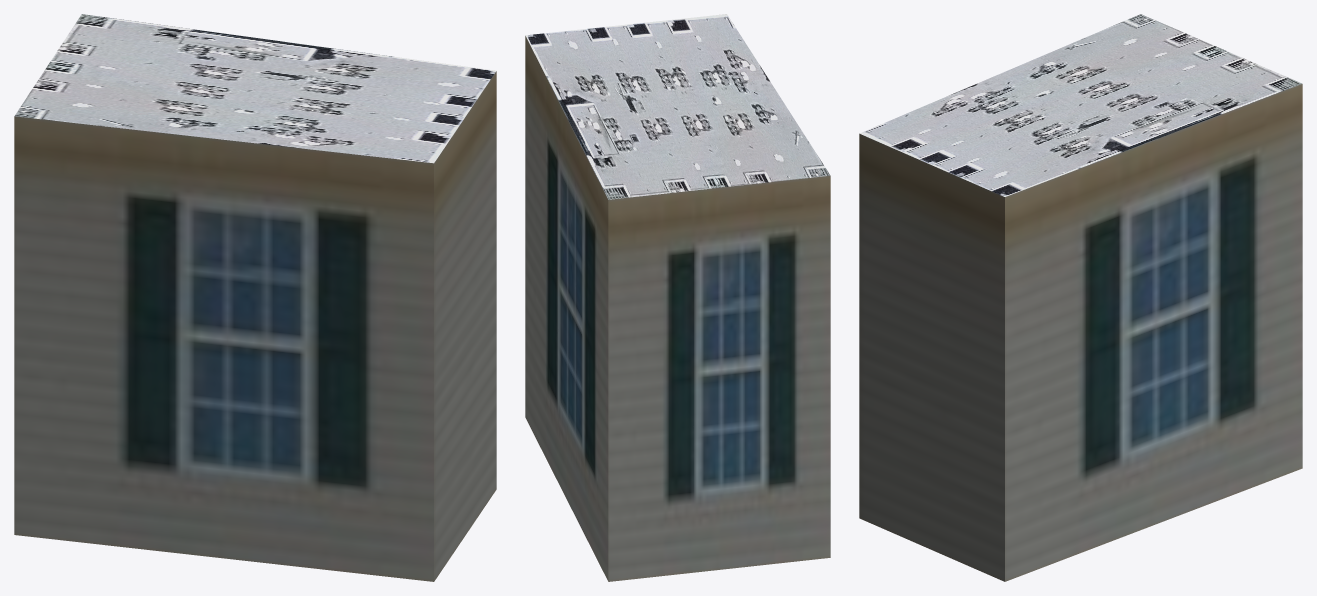
The model's file is ResTex__5282.fbx.
The picture shows the model from 3 angles, left to right: view 1: azimuth 30°, elevation 25°; view 2: azimuth 150°, elevation 25°; view 3: azimuth 270°, elevation 25°; orthographic projection. The views are drawn at different scales.
Parts seen in each view (by area): view 1: CityEngineMaterial_7_m, CityEngineMaterial_m; view 2: CityEngineMaterial_7_m, CityEngineMaterial_m; view 3: CityEngineMaterial_7_m, CityEngineMaterial_m.
Part boxes in pixels (left/top/right/bottom): CityEngineMaterial_7_m: left=14, top=71, right=496, bottom=581; CityEngineMaterial_m: left=14, top=14, right=496, bottom=163; CityEngineMaterial_7_m: left=525, top=36, right=830, bottom=581; CityEngineMaterial_m: left=525, top=14, right=830, bottom=199; CityEngineMaterial_7_m: left=859, top=84, right=1302, bottom=581; CityEngineMaterial_m: left=860, top=14, right=1301, bottom=196.
Bounding box in the file's own units: 3.06 × 3 × 3.13.
Materials: 2 (2 with a texture image).
